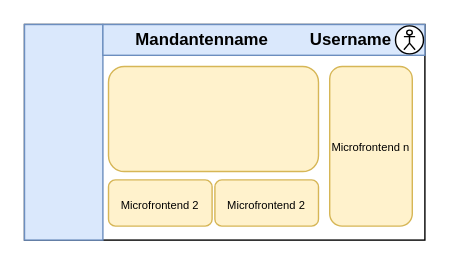
The diagram is 449 pixels wide and 265 high, and some of its shapes have lost their labels. Each missing label, with the centre of its shape:
"Microfrontend 1" goes at (212,118).
"Navigation Dashboard 1 Dashboard 2 Prototyp Footer" goes at (63,131).
